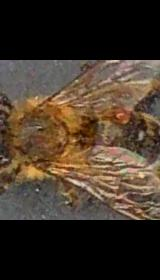varroa_mite: (108, 103, 134, 126)
